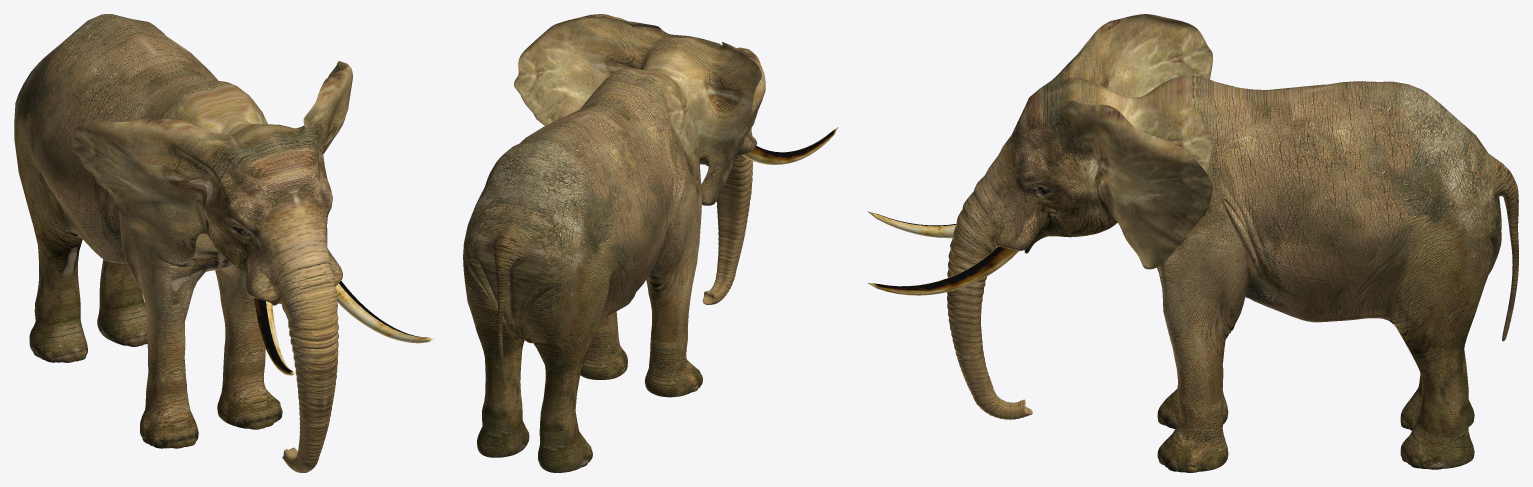
Rendered from ELEPHANT_M.fbx.
The picture shows the model from 3 angles, left to right: view 1: azimuth 30°, elevation 25°; view 2: azimuth 150°, elevation 25°; view 3: azimuth 270°, elevation 25°; orthographic projection. The views are drawn at different scales.
Parts seen in each view (by area): view 1: MainEleM, EleTuskL, EleTuskR; view 2: MainEleM, EleTuskR; view 3: MainEleM, EleTuskL, EleTuskR.
Part boxes in pixels (x1=…): MainEleM: x1=14, y1=14, x2=352, y2=472; EleTuskL: x1=335, y1=281, x2=433, y2=343; EleTuskR: x1=253, y1=298, x2=294, y2=375; MainEleM: x1=463, y1=14, x2=765, y2=472; EleTuskR: x1=742, y1=127, x2=838, y2=164; MainEleM: x1=947, y1=14, x2=1518, y2=472; EleTuskL: x1=868, y1=246, x2=1018, y2=295; EleTuskR: x1=867, y1=211, x2=956, y2=238.
Bounding box in the file's own units: 546 × 717 × 1132.
3 materials, 2 textured.
